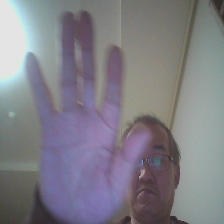hand: (27, 9, 149, 221)
